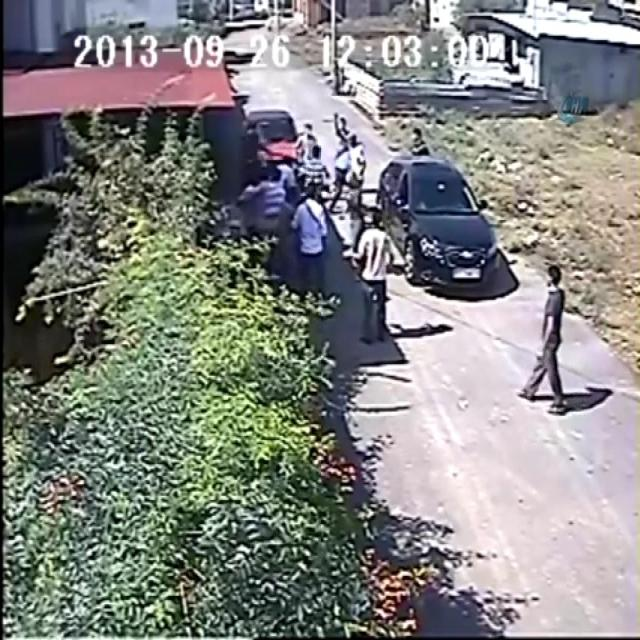fight: (331, 106, 366, 224), (294, 116, 326, 196)
